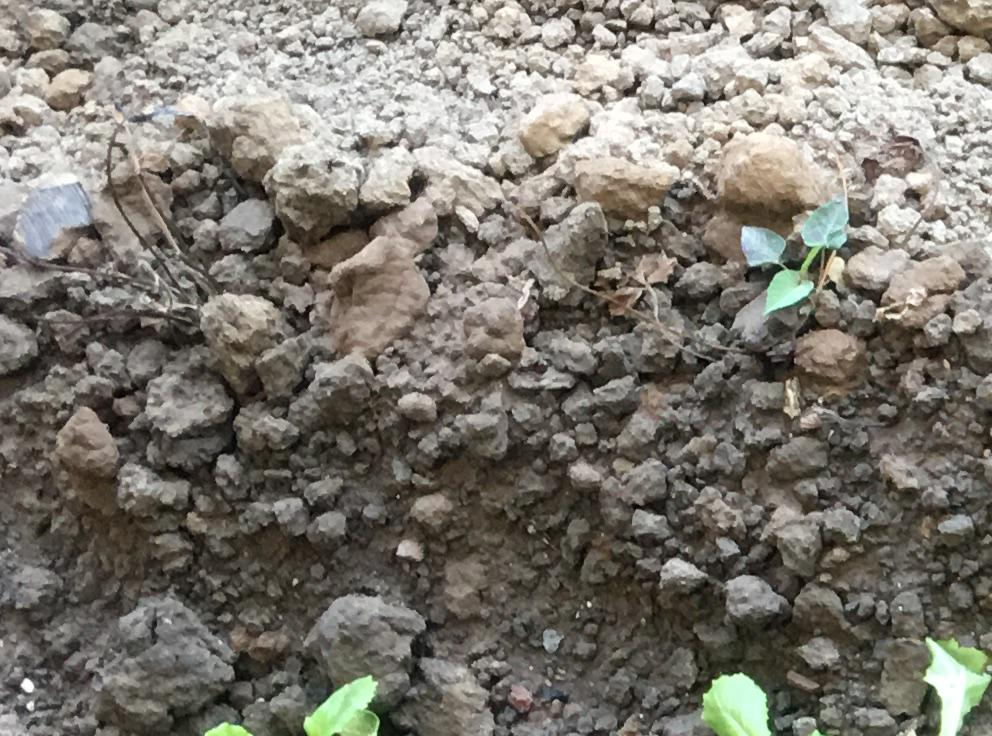block: (96, 607, 233, 720), (304, 586, 413, 712), (720, 126, 839, 224), (201, 288, 287, 399), (269, 138, 360, 238), (42, 404, 122, 514), (572, 146, 683, 223)
